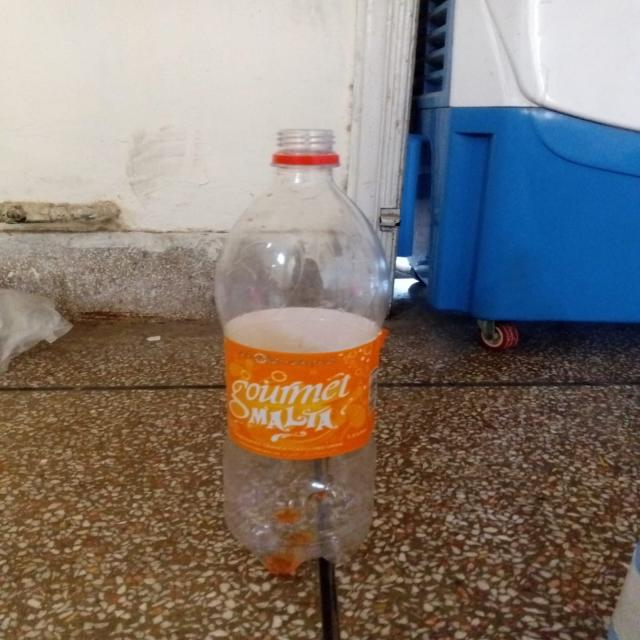bottle: (195, 114, 396, 580)
label: (222, 314, 389, 456)
